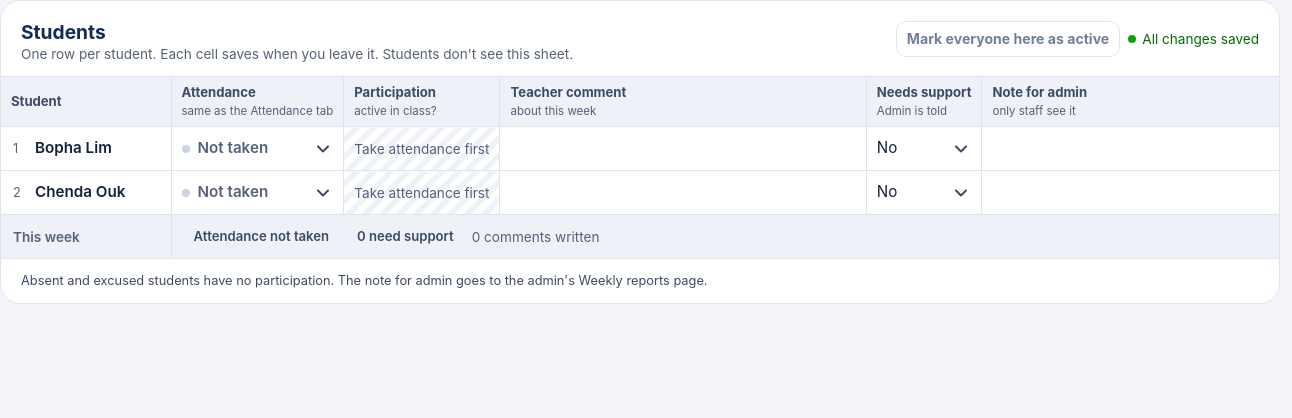
ReportSheet › before attendance is taken, asks for it first; the first mark makes everyone else present
Expected: the text "Take attendance first" is shown 2 times, x1=344 y1=127 x2=500 y2=171; x1=344 y1=171 x2=500 y2=215
Click the dropdown named "Attendance, Bopha Lim" at (257, 149), box x1=172 y1=127 x2=343 y2=170
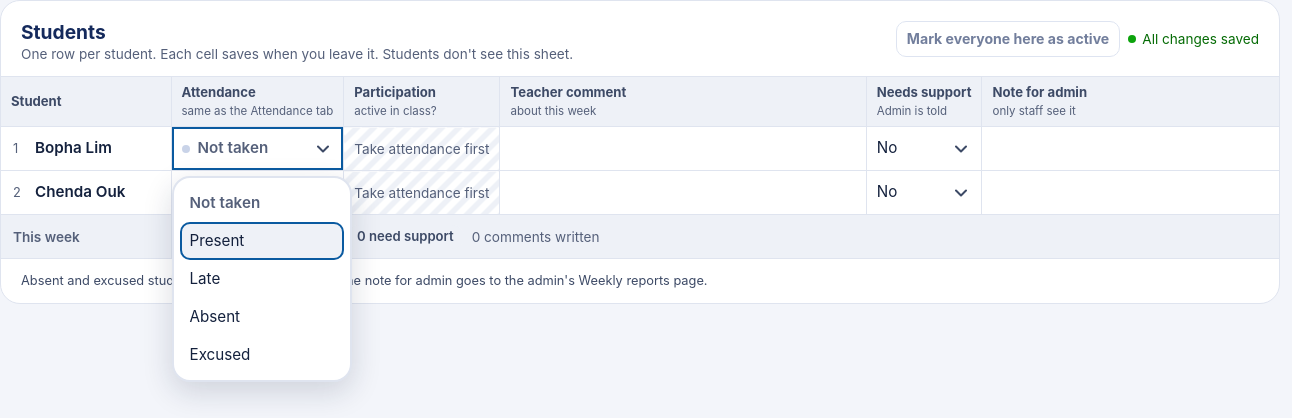
Click the option "Late" at (205, 278), box x1=190 y1=269 x2=220 y2=288
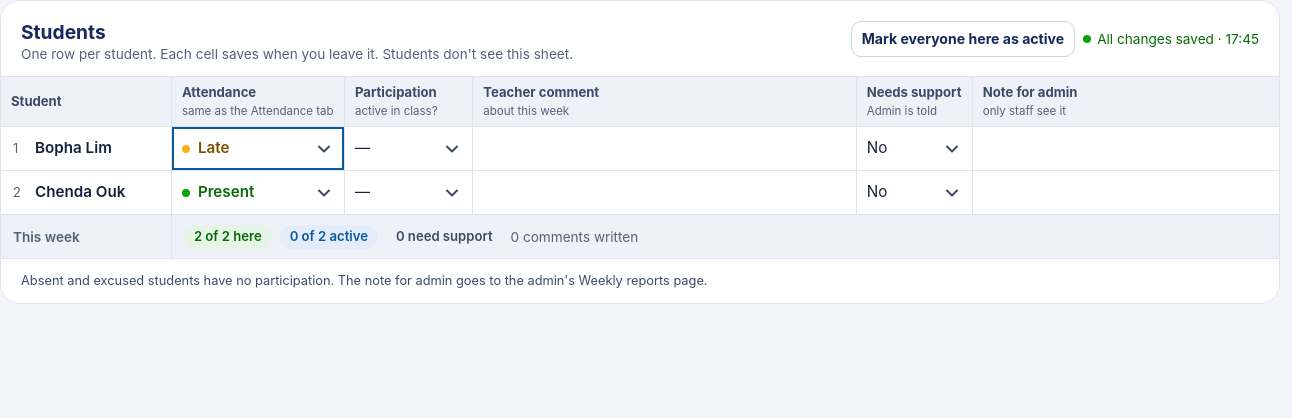
Now the dropdown named "Attendance, Chenda Ouk" reads "Present", box x1=172 y1=171 x2=344 y2=214
Now the dropdown named "Participation, Chenda Ouk" is shown, box x1=345 y1=171 x2=472 y2=214
